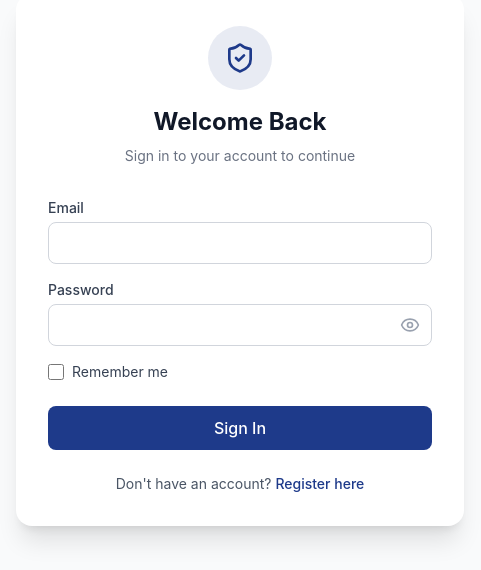
Login Component › shows a helpful message for common email typos
Type "farzain0.1n@gmail.co" into the field labelled "Email". click: [240, 243]
box: [48,222,432,264]
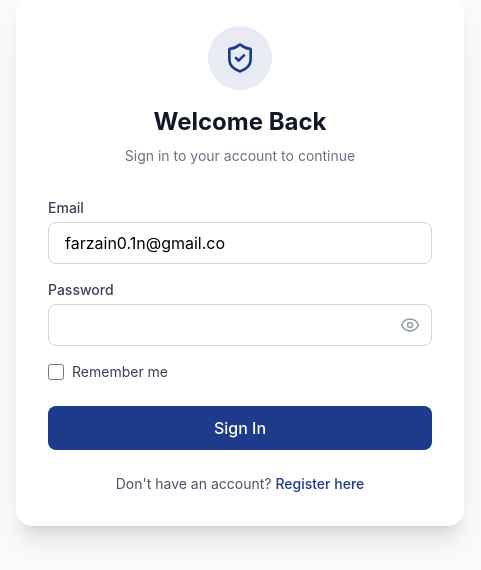
Type "password12" into the password field labelled "Password". click: [240, 325]
box: [48,304,432,346]
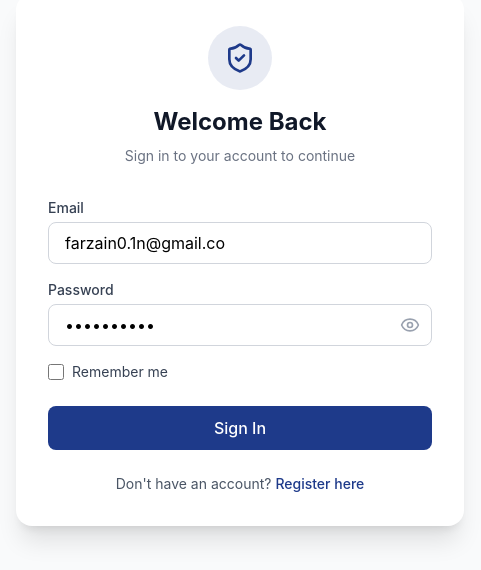
Click the button "Sign In". click: [240, 428]
box: [48,406,432,450]
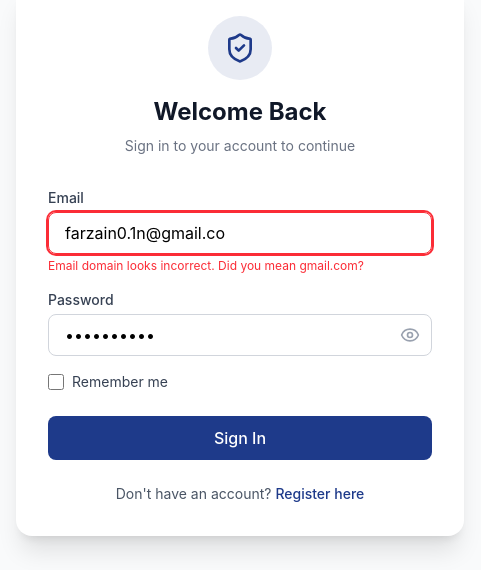
Result: the text "Email domain looks incorrect. Did you mean gmail.com?" is shown at [48,258,364,273]
